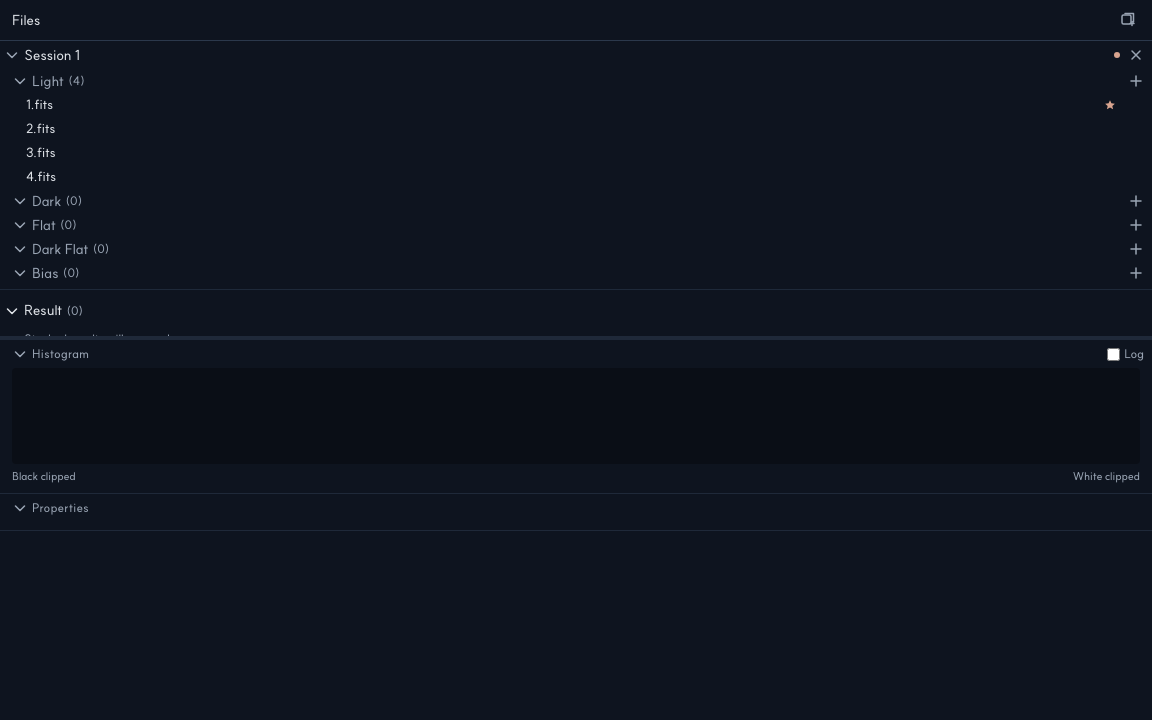
it: representative image › changes the representative image from the context menu of a light
The width and height of the screenshot is (1152, 720).
Right-click the option titled "/l/3.fits": (41, 152) [26, 144, 56, 160]
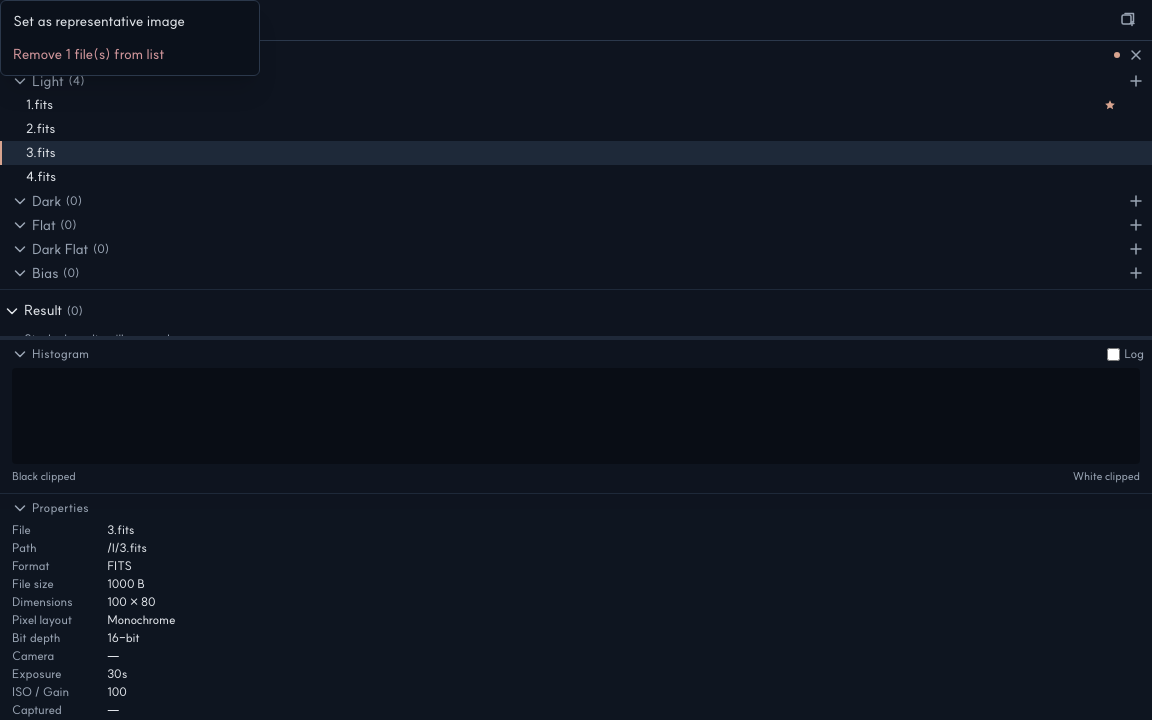
Click the menu item "Set as representative image": (130, 22) [1, 5, 259, 38]
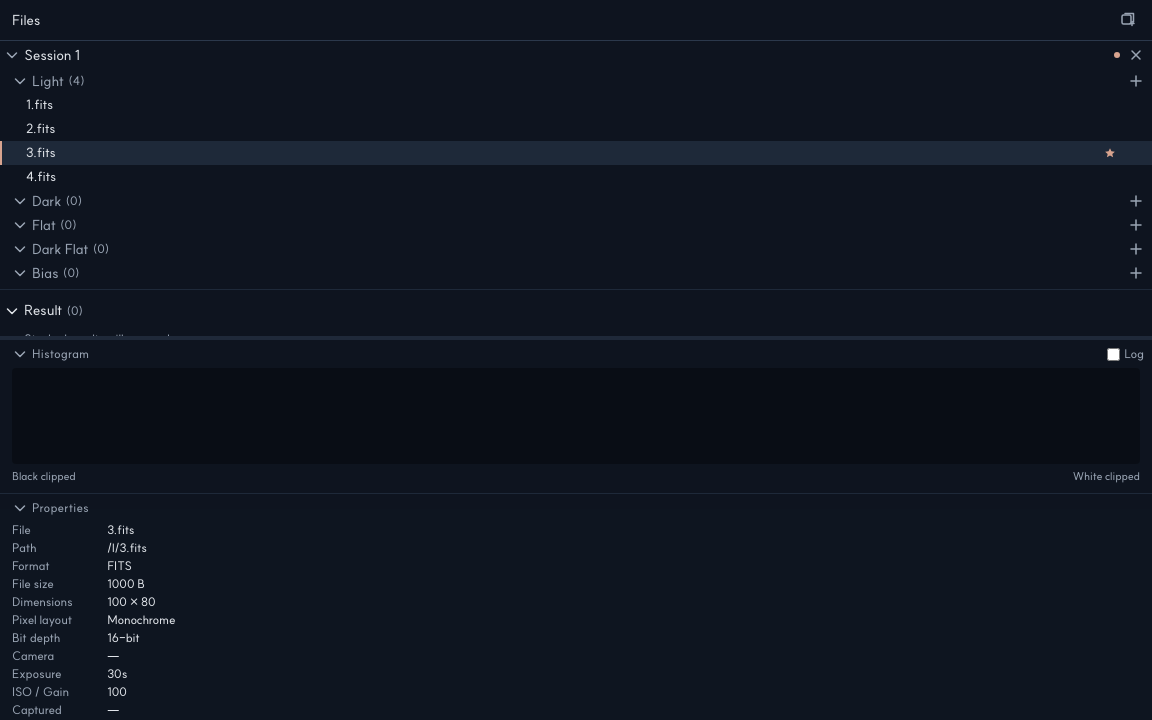
Expected: the number of pictures named "Representative image" is 1, [1104, 147, 1116, 159]
Now the menu is gone
